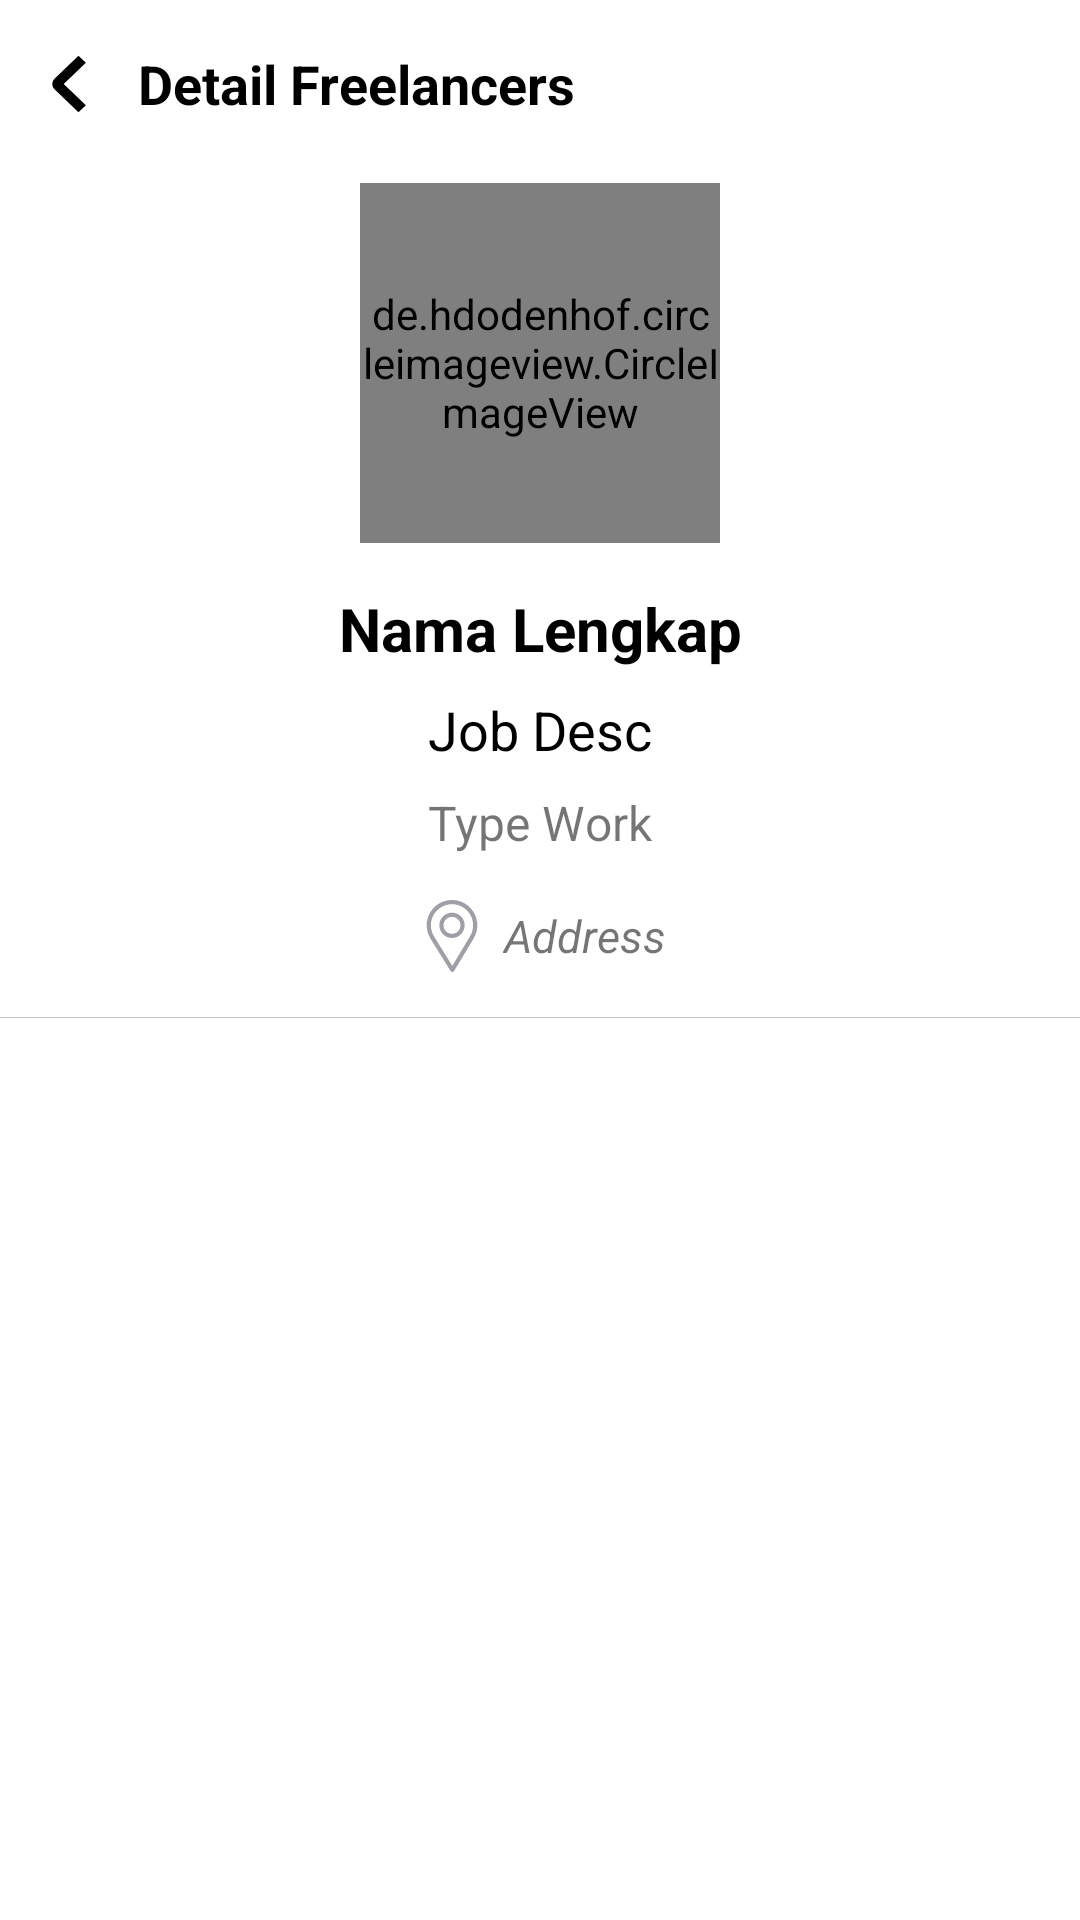

Where icons sit on this 1080 x 1920 app screen, as box(x1, y1, x2, y2):
btnback: box(52, 56, 86, 112)
